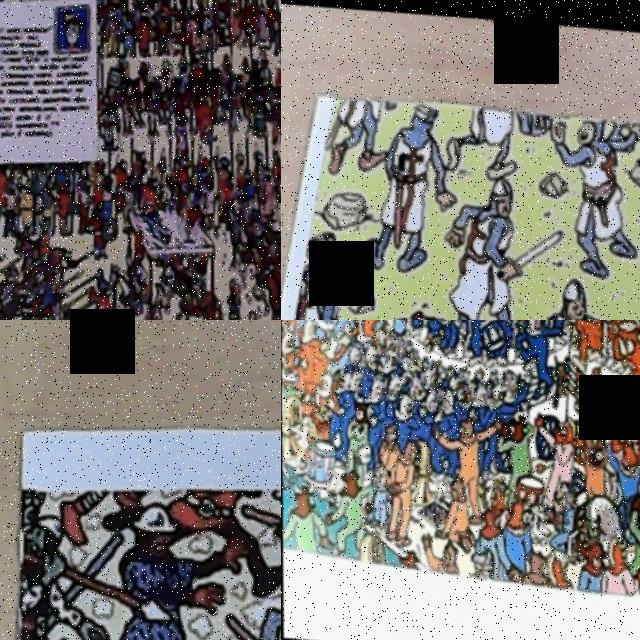waldo: (59, 6, 85, 50), (408, 304, 444, 320), (190, 49, 200, 64)
